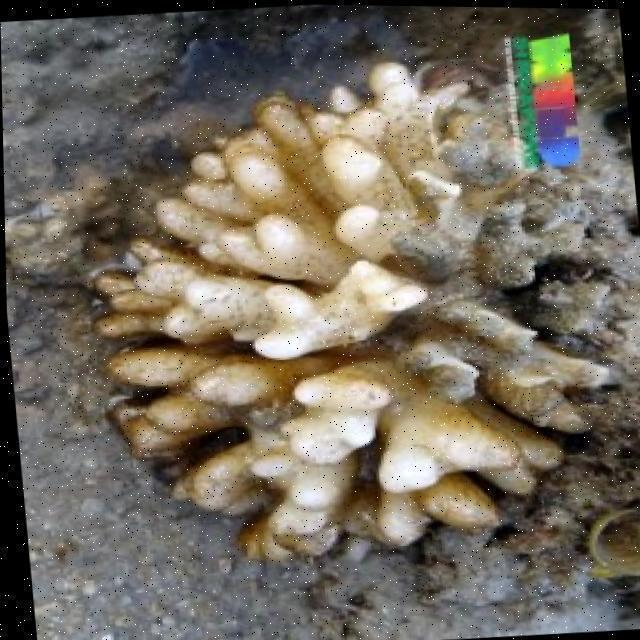Bleached Coral: (93, 63, 537, 559)
